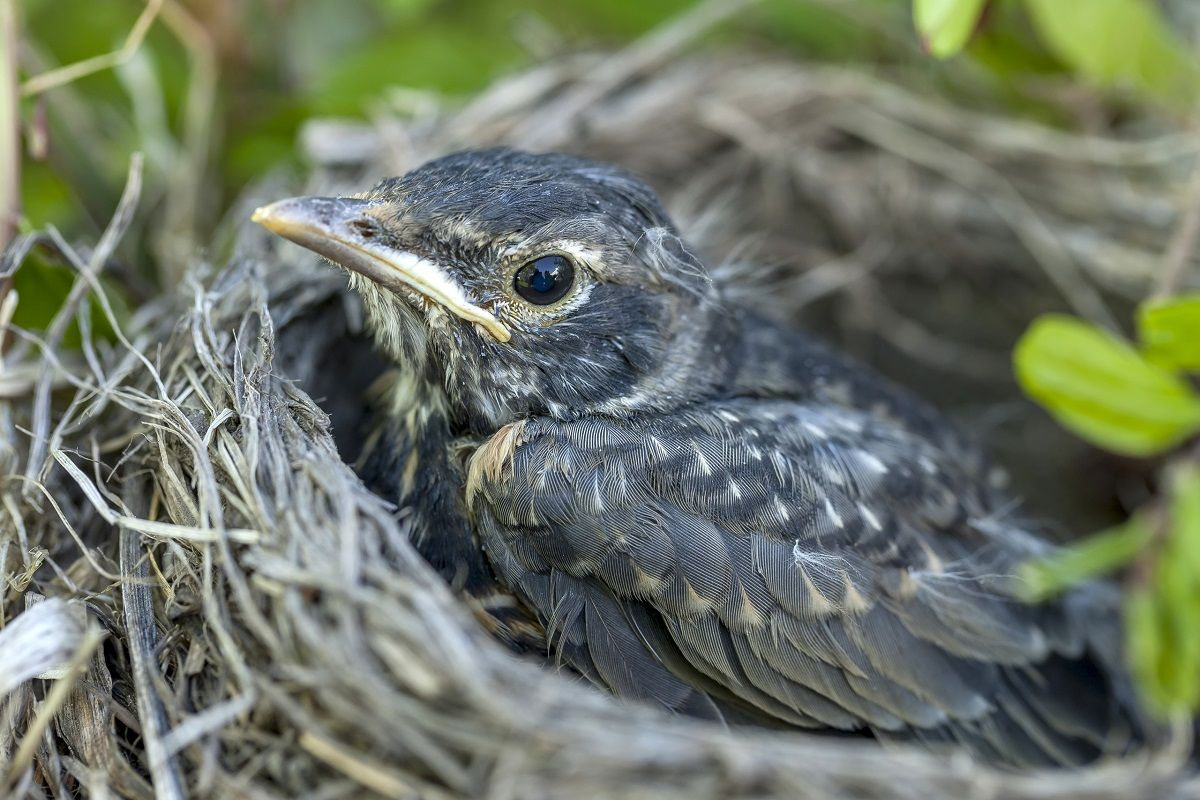bird: (232, 98, 1200, 785)
